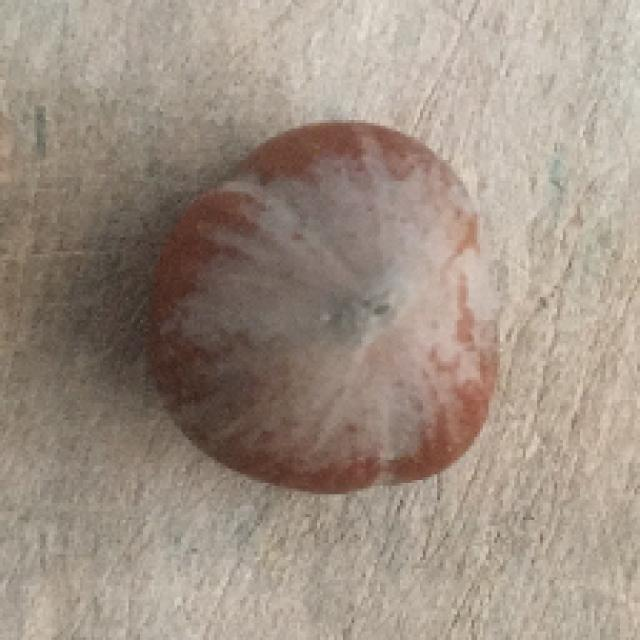qualityHazelnut: (156, 117, 499, 499)
